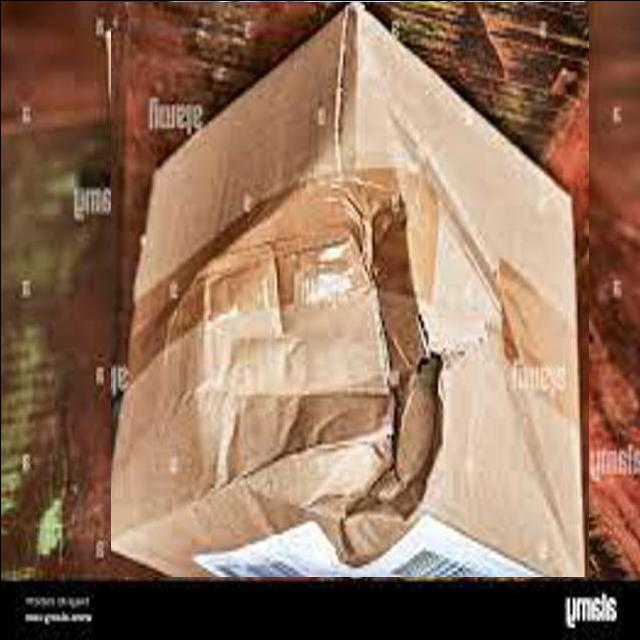defect: (110, 1, 588, 576)
